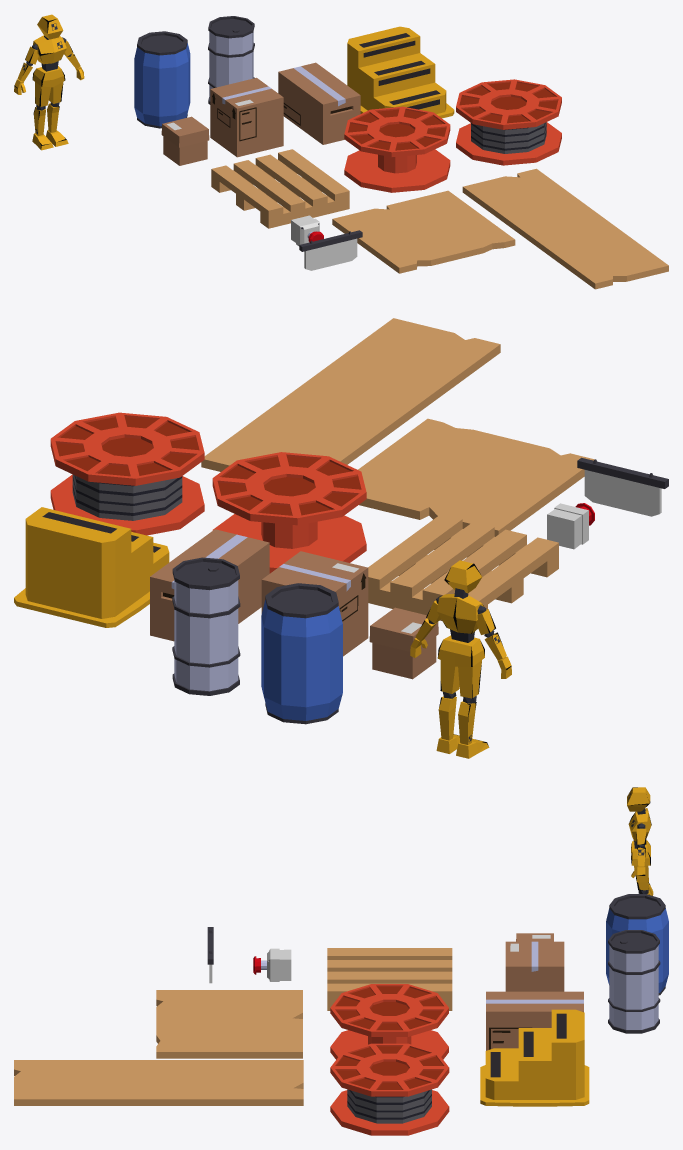
File: assetPack-Warehouse01.fbx
The picture shows the model from 3 angles, top to bottom: view 1: azimuth 30°, elevation 25°; view 2: azimuth 150°, elevation 25°; view 3: azimuth 270°, elevation 25°; orthographic projection. The views are drawn at different scales.
Parts seen in each view (by area): view 1: woodenBoard-long, woodenBoard-square, wireHolder-empty, wireHolder-full, woodenPallet, stairs, barrel-rounded, box-big-square, box-big-long, barrel-basic, box-small-square, exitSign (+4 smaller); view 2: woodenBoard-long, woodenBoard-square, wireHolder-full, wireHolder-empty, stairs, woodenPallet, barrel-rounded, barrel-basic, box-big-long, box-big-square, box-small-square, exitSign (+7 smaller); view 3: woodenBoard-long, woodenBoard-square, wireHolder-full, stairs, wireHolder-empty, woodenPallet, barrel-basic, box-big-long, box-big-square, barrel-rounded, button-click.
Boxes of the visible parts, <box> form: woodenBoard-long: <box>462,168,668,289</box>; woodenBoard-square: <box>332,190,515,273</box>; wireHolder-empty: <box>344,106,450,192</box>; wireHolder-full: <box>456,79,561,165</box>; woodenPallet: <box>211,149,349,228</box>; stairs: <box>347,26,454,118</box>; barrel-rounded: <box>134,31,190,128</box>; box-big-square: <box>210,77,283,157</box>; box-big-long: <box>278,62,360,144</box>; barrel-basic: <box>208,16,254,104</box>; box-small-square: <box>161,116,209,165</box>; exitSign: <box>299,230,362,270</box>; woodenBoard-long: <box>201,318,500,471</box>; woodenBoard-square: <box>358,418,594,536</box>; wireHolder-full: <box>50,412,204,535</box>; wireHolder-empty: <box>212,452,366,573</box>; stairs: <box>14,507,169,627</box>; woodenPallet: <box>368,514,558,620</box>; barrel-rounded: <box>261,583,342,724</box>; barrel-basic: <box>172,557,240,695</box>; box-big-long: <box>150,529,269,641</box>; box-big-square: <box>261,551,368,656</box>; box-small-square: <box>369,607,438,679</box>; exitSign: <box>577,457,668,516</box>; woodenBoard-long: <box>14,1060,303,1105</box>; woodenBoard-square: <box>156,990,302,1058</box>; wireHolder-full: <box>330,1043,449,1135</box>; stairs: <box>480,1009,589,1106</box>; wireHolder-empty: <box>330,984,448,1059</box>; woodenPallet: <box>327,948,452,1010</box>; barrel-basic: <box>608,930,660,1033</box>; box-big-long: <box>486,991,583,1050</box>; box-big-square: <box>505,941,564,991</box>; barrel-rounded: <box>606,894,668,995</box>; button-click: <box>253,948,291,981</box>.
Bounding box in the file's own units: 1040 × 298 × 1275.
